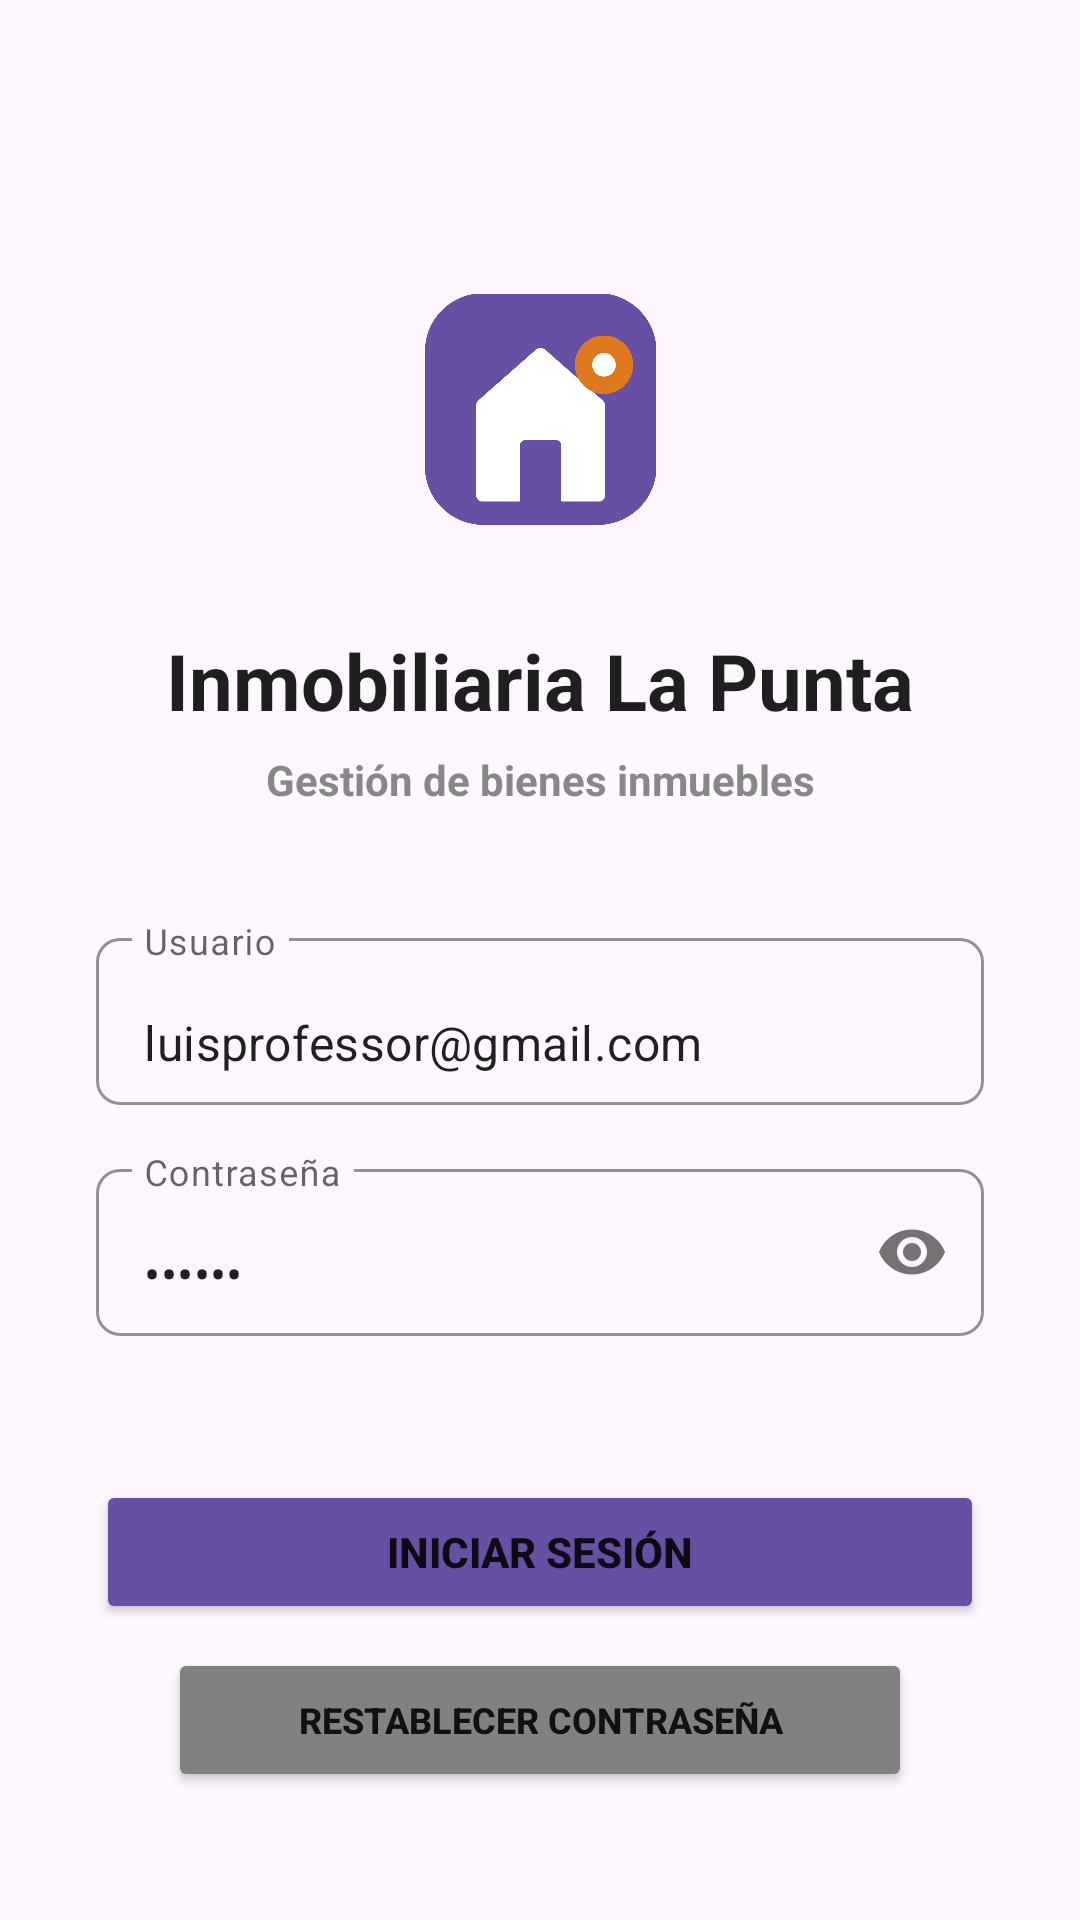

Locate icon controls on the screen. Image size 1080 x 1920, boxes as (x1, y1, x2, y2).
inmueble: (425, 294, 656, 525)
